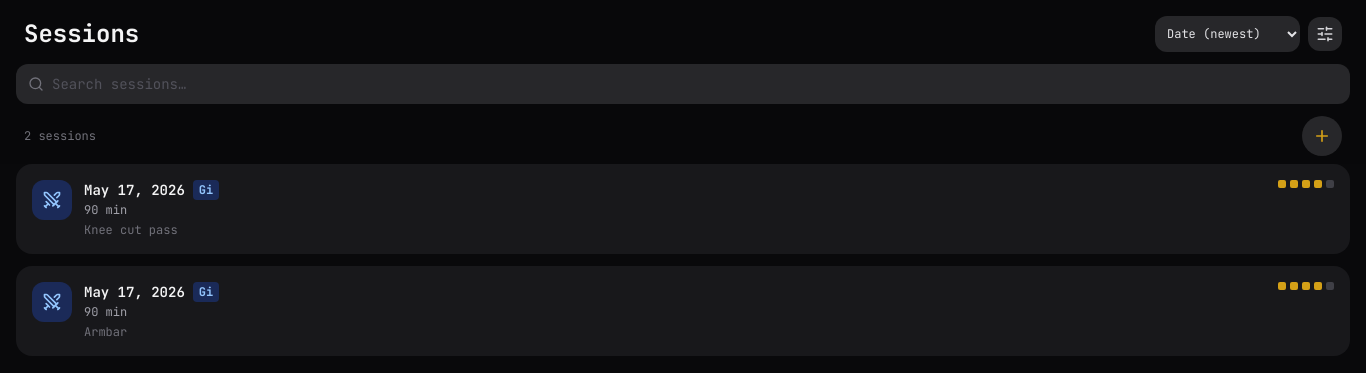
it: SessionsPage › filters sessions by search query across notes and techniques
The width and height of the screenshot is (1366, 373).
Type "knee cut" into the field labelled "Search sessions" at (683, 84), box left=16, top=64, right=1350, bottom=104
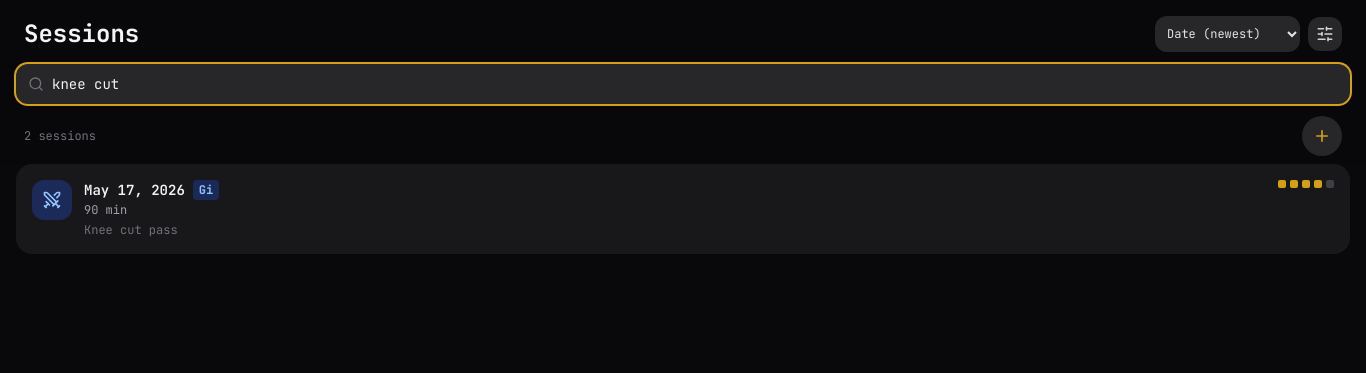
expect the text "Knee cut pass" is shown: met, box left=84, top=222, right=178, bottom=238
expect the button "Armbar" is gone: met
